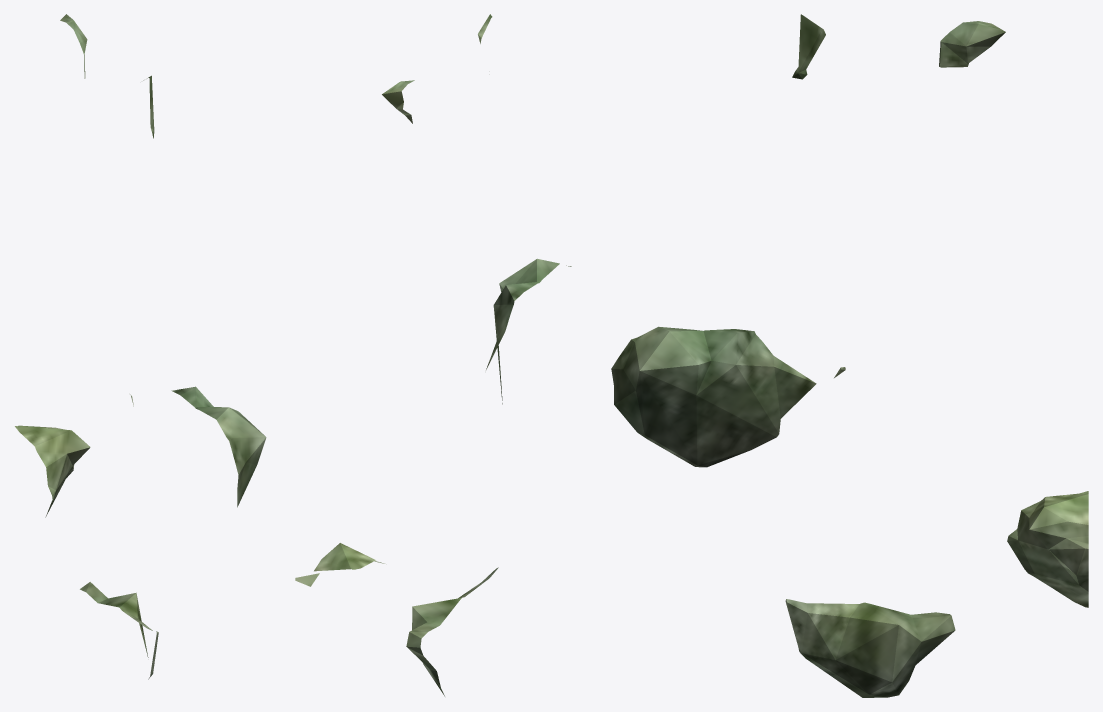
The picture shows the model from 3 angles, left to right: view 1: azimuth 30°, elevation 25°; view 2: azimuth 150°, elevation 25°; view 3: azimuth 270°, elevation 25°; orthographic projection. The views are drawn at different scales.
Bounding box in the file's own units: 0.2136 × 2.15 × 1.36.
Materials: 1 (1 with a texture image).
